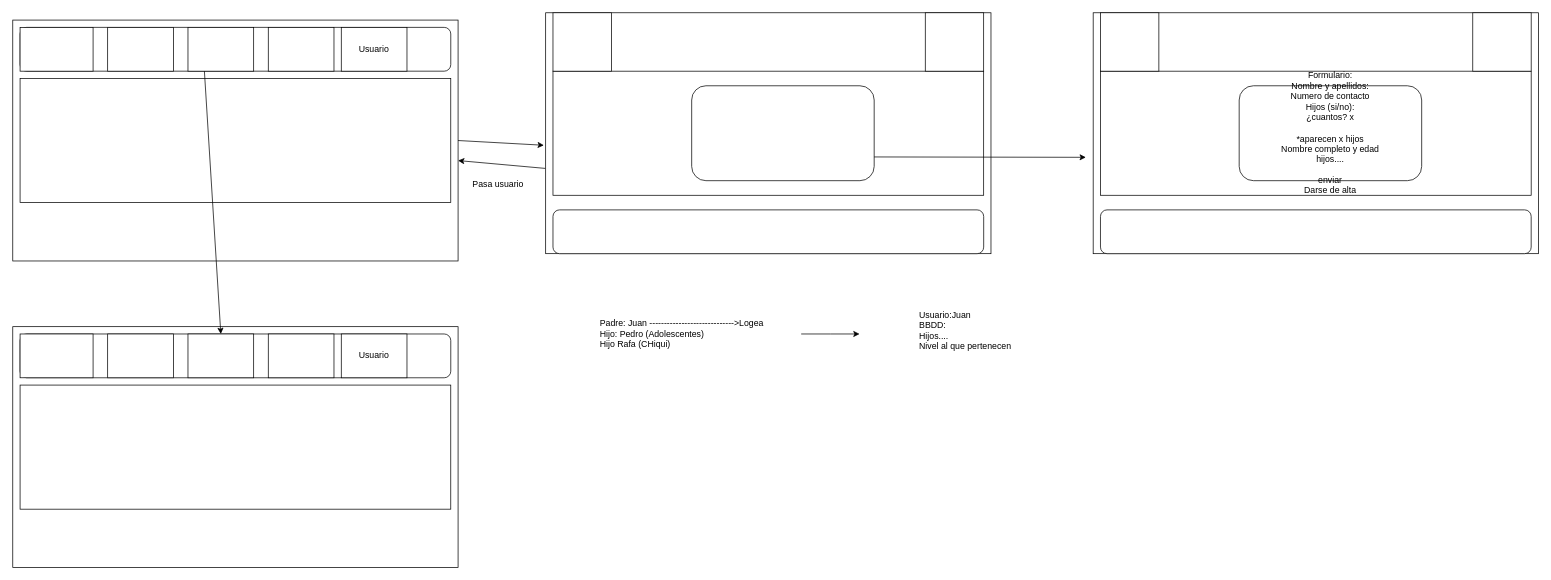
Image size: 1551x580. Some labels were removed from this diagram. Each missing label, with the centre of its shape:
"Formulario: Usuario Contraseña enviar Darse de alta" goes at (782,133).
"Secciones" goes at (220,49).
